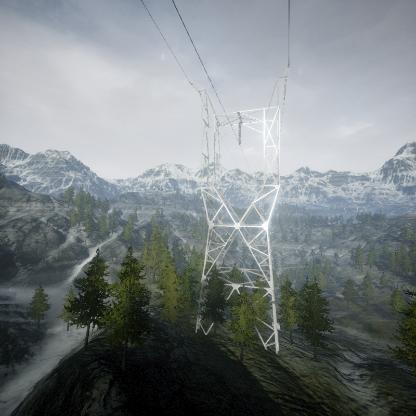tower: (186, 69, 292, 357)
